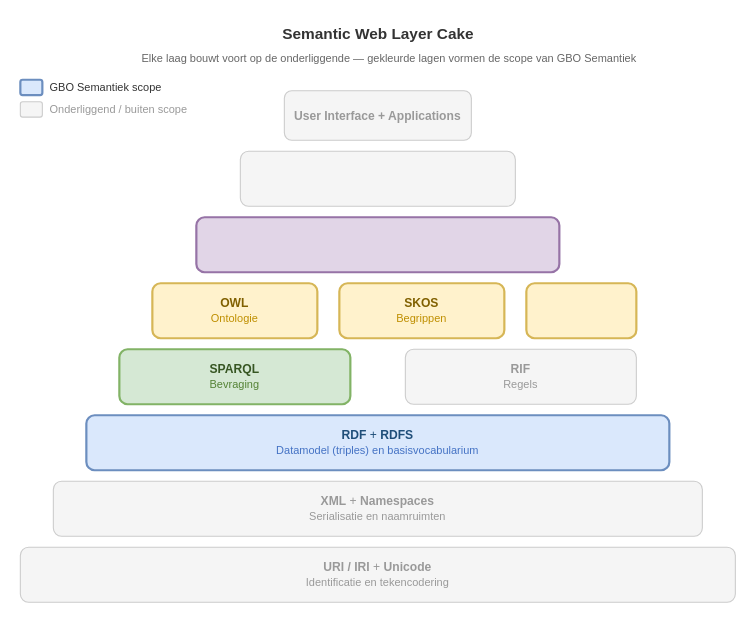
Some shapes in this 755 by 622 pixel diagram are drawn without their labels. Here are the shapes that lost their labels. From the top down, the centre of each, then its label:
[377,178]: Trust + Proof Vertrouwen, herkomst, digitale handtekeningen
[377,244]: JSON-LD Datapublicatie in API's
[581,310]: SHACL Validatie
